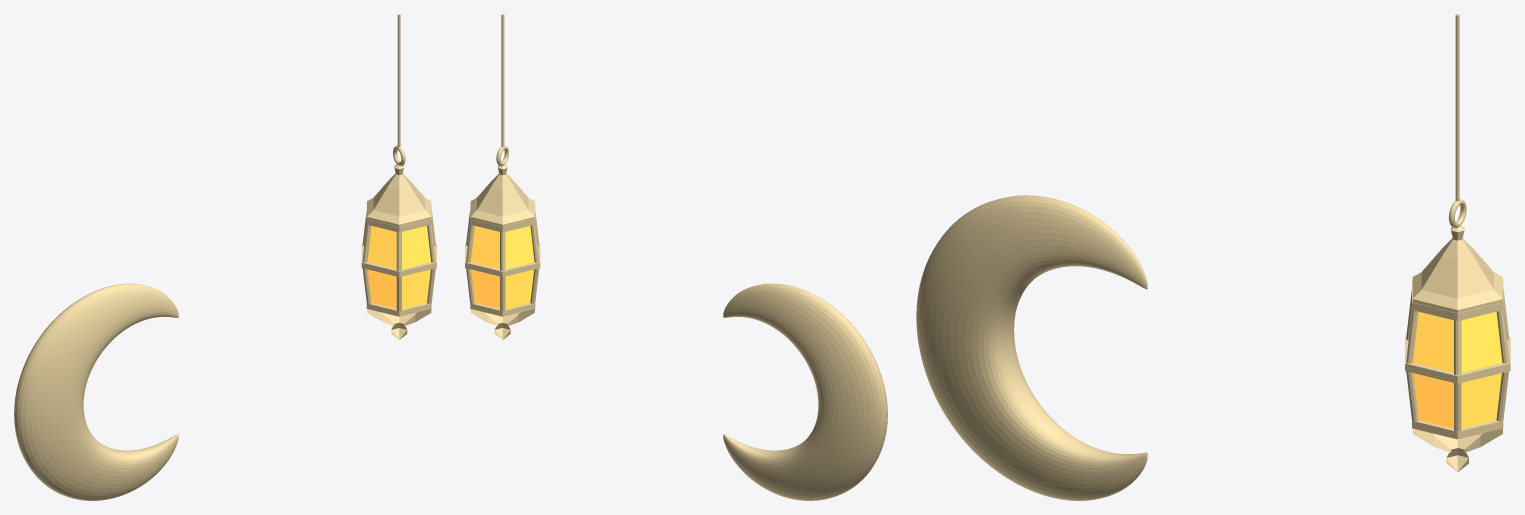
Rendered from ramazan.glb.
3 views of the same model, side by side, from view 1: azimuth 30°, elevation 25°; view 2: azimuth 150°, elevation 25°; view 3: azimuth 330°, elevation 25° (orthographic). The views are drawn at different scales.
Parts seen in each view (by area): view 1: crescent, lantern_r; view 2: crescent, lantern_r; view 3: crescent, lantern_r.
Part boxes in pixels (x1,y1,x2,y2): crescent: (14, 283, 178, 500); lantern_r: (361, 14, 436, 339); crescent: (723, 283, 887, 500); lantern_r: (465, 14, 540, 339); crescent: (916, 195, 1147, 500); lantern_r: (1405, 14, 1510, 472).
Bounding box in the file's own units: 3.93 × 3.68 × 0.6079.
